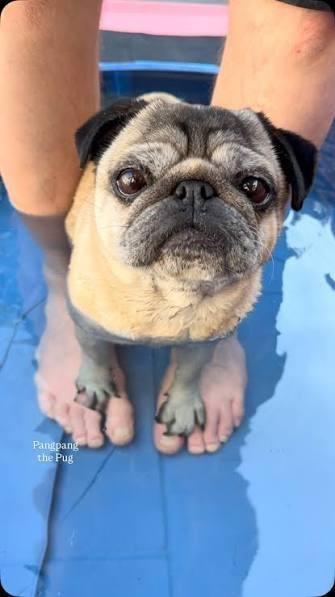adult_dog: (65, 90, 318, 438)
